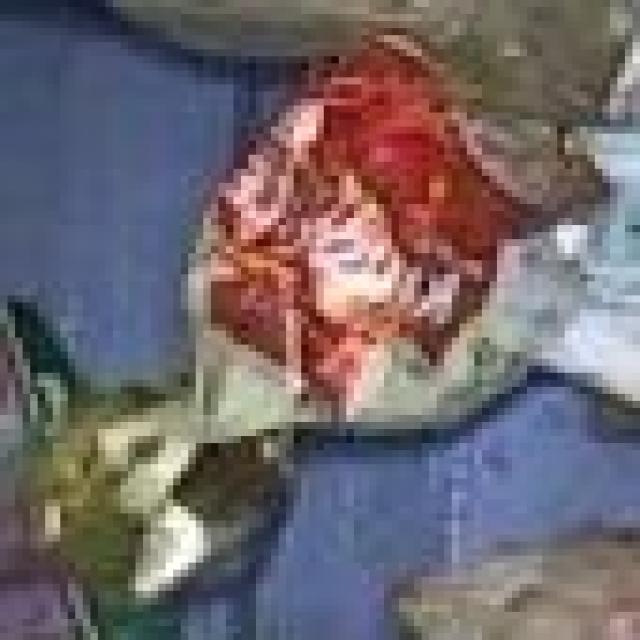can: (119, 22, 629, 468)
